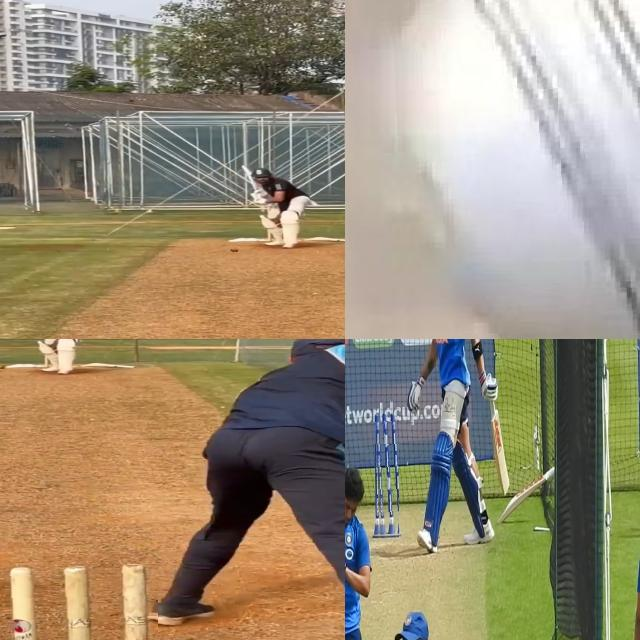Cricket ball: (387, 0, 640, 339), (229, 247, 238, 252), (0, 364, 5, 370)
Stumps: (7, 564, 158, 640), (374, 410, 399, 541)
